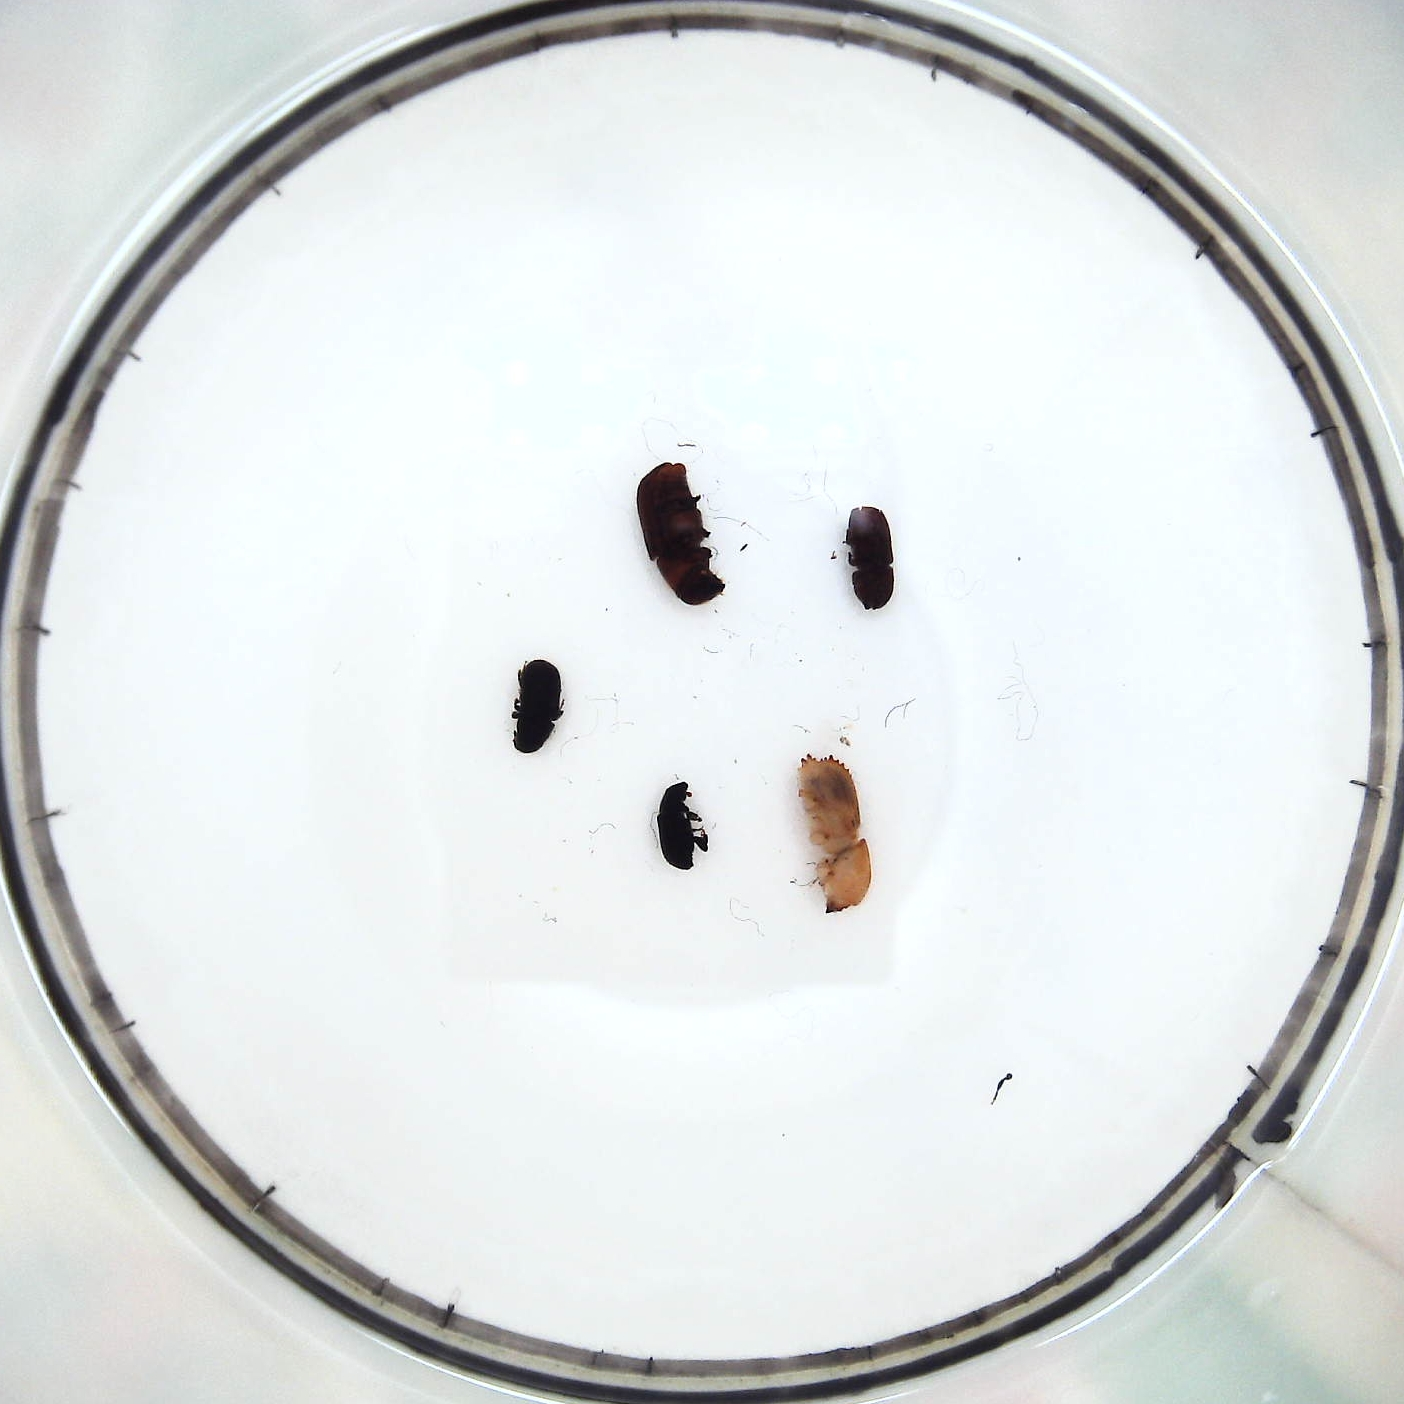Boerner: (795, 744, 879, 921)
Leconte: (633, 454, 728, 609)
Linnaeus: (842, 501, 901, 608)
armandi: (510, 657, 564, 753)
coleoptera: (652, 777, 708, 874)
